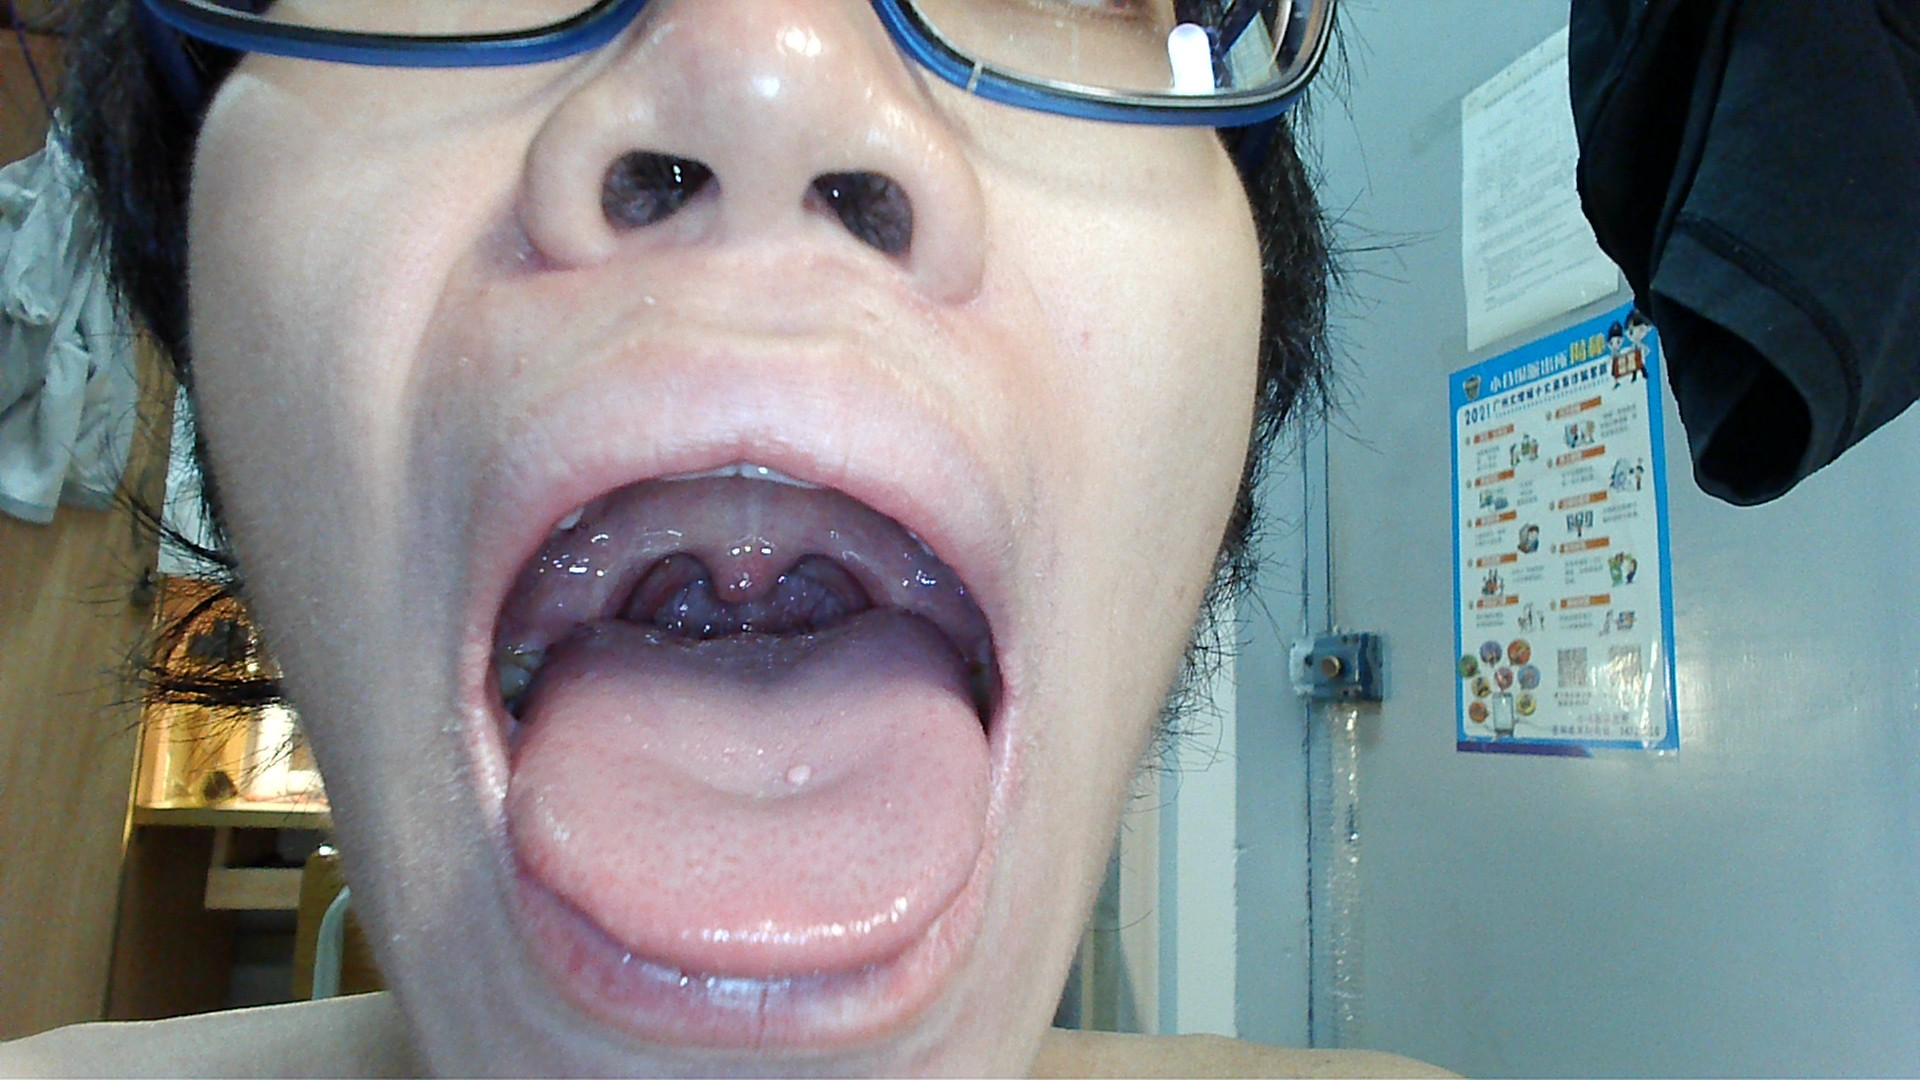throat: (822, 524, 890, 604), (593, 531, 658, 616)
